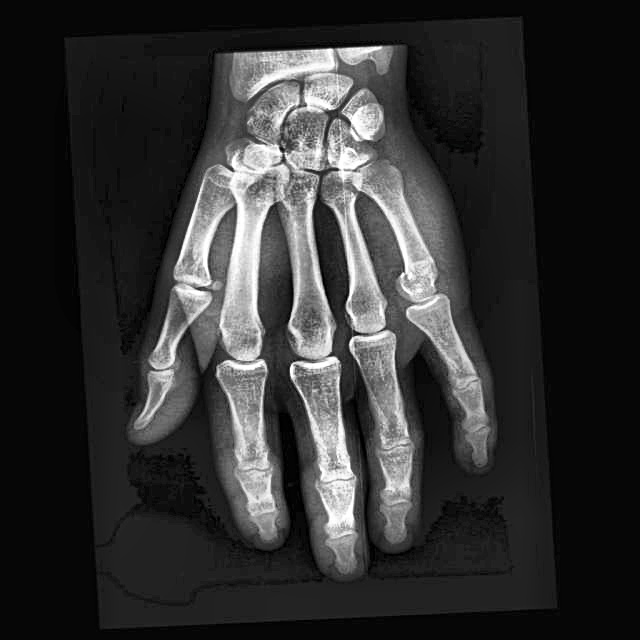Comminuted: (394, 250, 450, 306)
